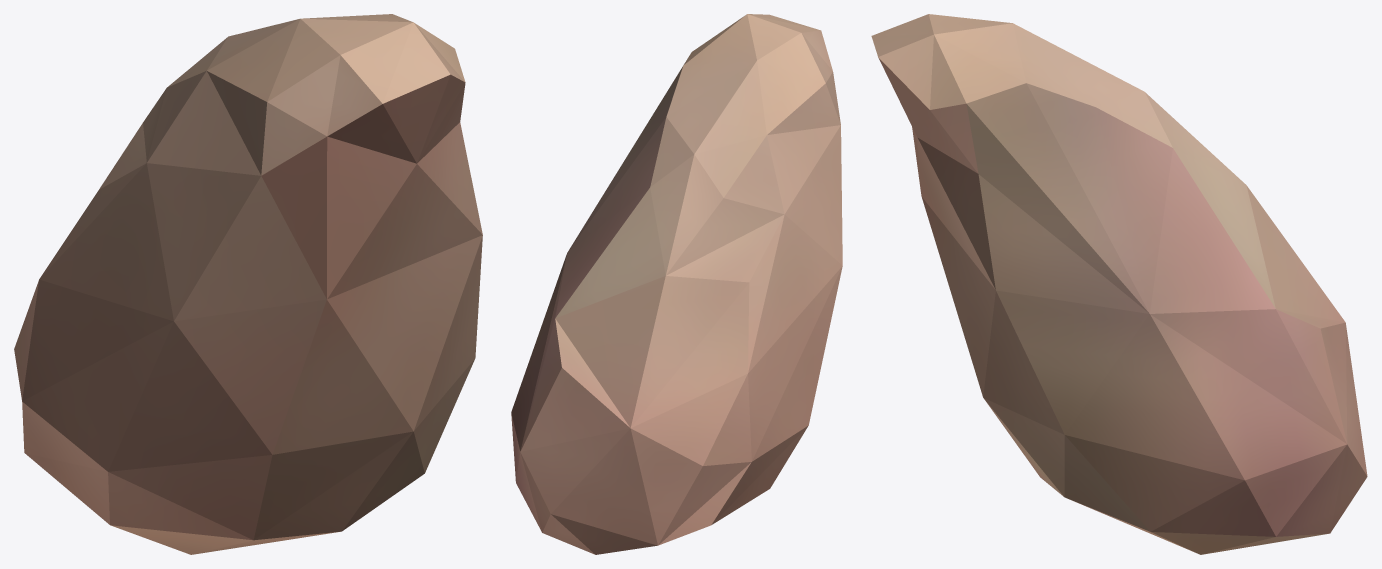
The model's file is bird.dae.
3 renders of one model, left to right at view 1: azimuth 30°, elevation 25°; view 2: azimuth 150°, elevation 25°; view 3: azimuth 270°, elevation 25°, orthographic. The views are drawn at different scales.
Visible parts, largest first — view 1: node; view 2: node; view 3: node.
Boxes of the visible parts, box(x1,y1,x2,y2) form: node: box(14, 14, 482, 554); node: box(511, 14, 842, 554); node: box(871, 14, 1367, 554).
Bounding box in the file's own units: 0.0618 × 0.1055 × 0.0941.
1 material, 1 textured.
